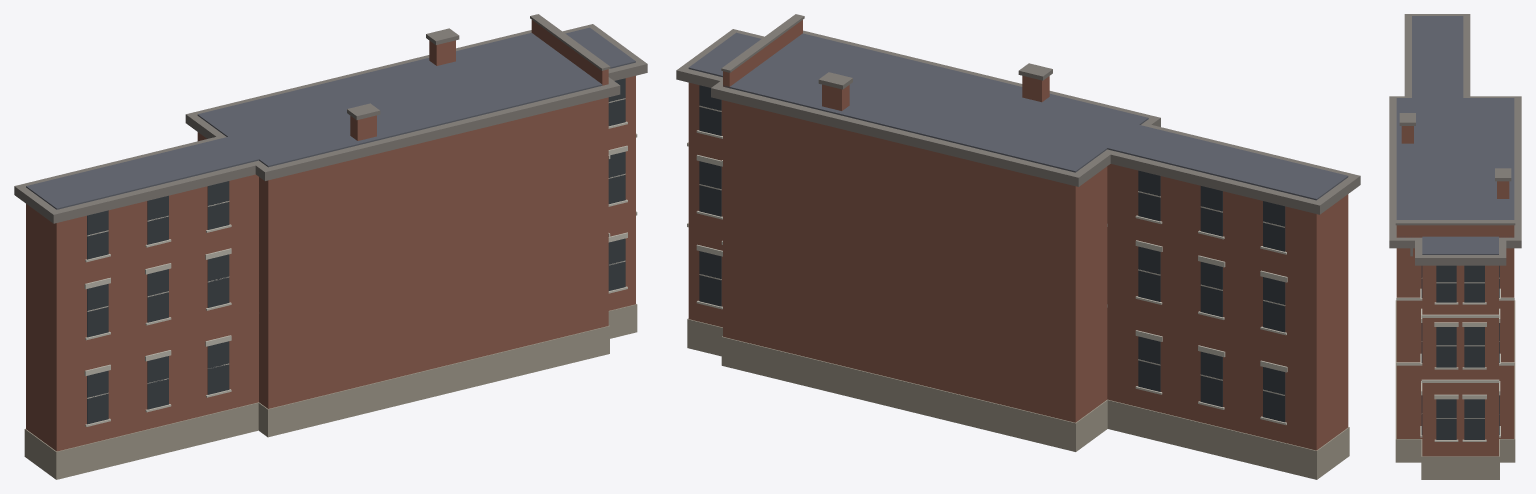
The model's file is house_2003_prairie__draft_1904.glb.
3 renders of one model, left to right at view 1: azimuth 30°, elevation 25°; view 2: azimuth 150°, elevation 25°; view 3: azimuth 270°, elevation 25°, orthographic. The views are drawn at different scales.
Parts seen in each view (by area): view 1: house_2003_prairie__draft_1904; view 2: house_2003_prairie__draft_1904; view 3: house_2003_prairie__draft_1904.
Boxes of the visible parts, left/top/right/bottom form: house_2003_prairie__draft_1904: left=14, top=14, right=647, bottom=479; house_2003_prairie__draft_1904: left=676, top=14, right=1360, bottom=479; house_2003_prairie__draft_1904: left=1389, top=14, right=1521, bottom=479.
Size of the model in its own units: 28.2 by 13.34 by 6.45.
